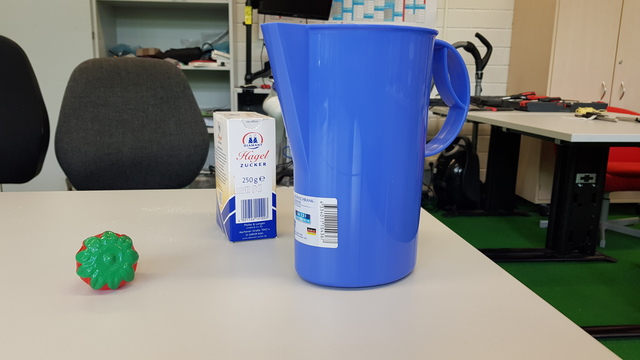004_sugar_box: (212, 111, 279, 243)
012_strawberry: (75, 231, 139, 293)
019_pitcher_base: (259, 22, 471, 289)
